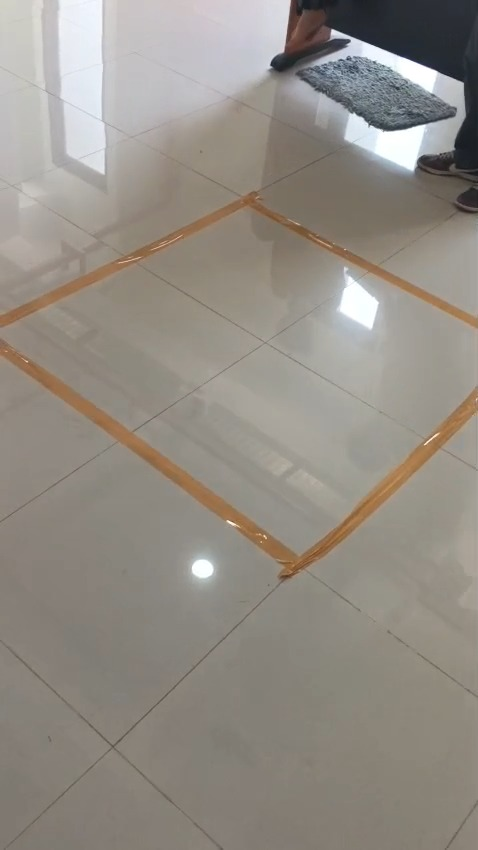floor marking: (1, 339, 477, 578), (0, 191, 477, 329)
